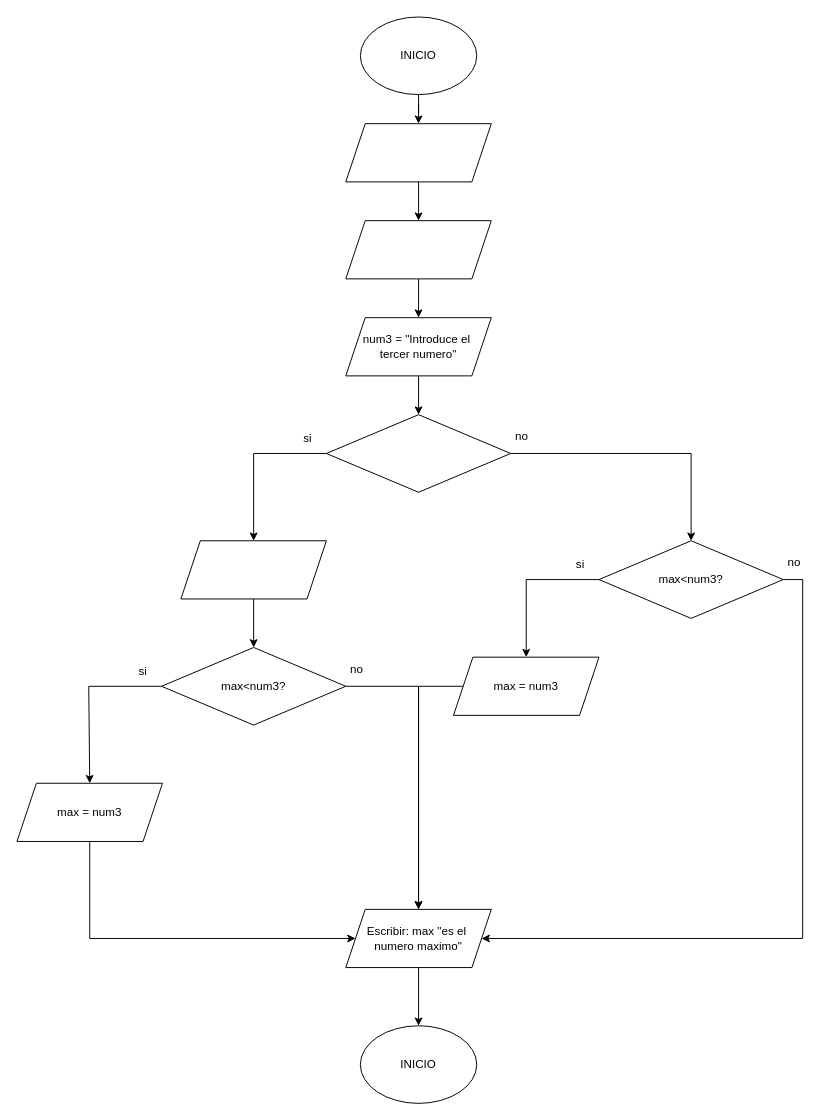
Some shapes in this 830 by 1120 pixel diagram are drawn without their labels. The centre of each missing label's shape, as x and y in pixels:
max = "Introduce el primer numero": (x=418, y=152)
max = num2: (x=253, y=569)
max<num2?: (x=418, y=453)
num2 = "Introduce el segundo numero": (x=418, y=249)
